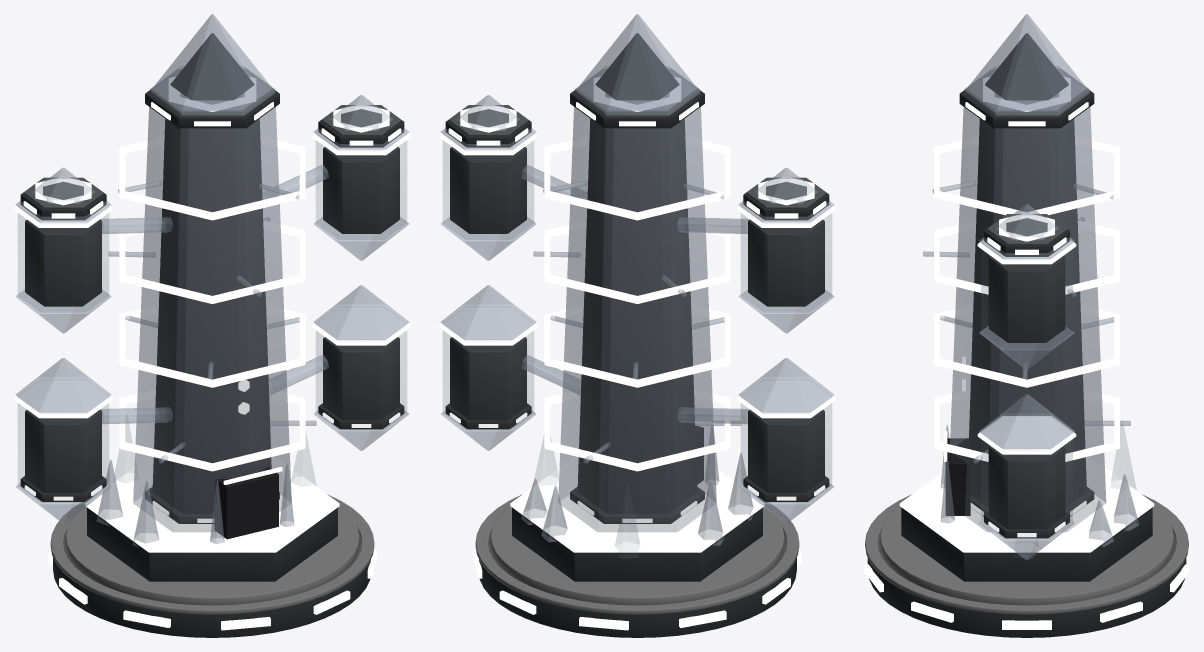
Rendered from Skin_Crystal_T3.glb.
3 views of the same model, side by side, from view 1: azimuth 30°, elevation 25°; view 2: azimuth 150°, elevation 25°; view 3: azimuth 270°, elevation 25° (orthographic).
Parts seen in each view (by area): view 1: Skin_Crystal_T3; view 2: Skin_Crystal_T3; view 3: Skin_Crystal_T3.
Part boxes in pixels (x1,y1,x2,y2): Skin_Crystal_T3: (14,14,410,637); Skin_Crystal_T3: (439,14,835,637); Skin_Crystal_T3: (864,14,1189,637).
Size of the model in its own units: 5.12 by 7.32 by 3.87.
